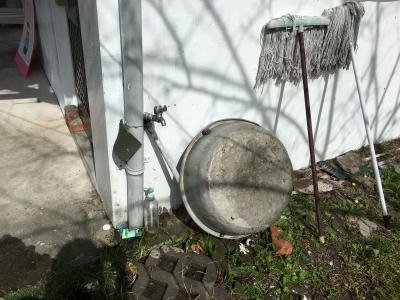bottle: (144, 187, 160, 235)
bowl: (175, 116, 295, 243)
